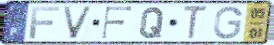F: (28, 5, 62, 40), (100, 6, 134, 41)
G: (212, 5, 244, 41)
Q: (138, 6, 167, 40)
T: (182, 4, 210, 42)
V: (60, 5, 95, 40)
